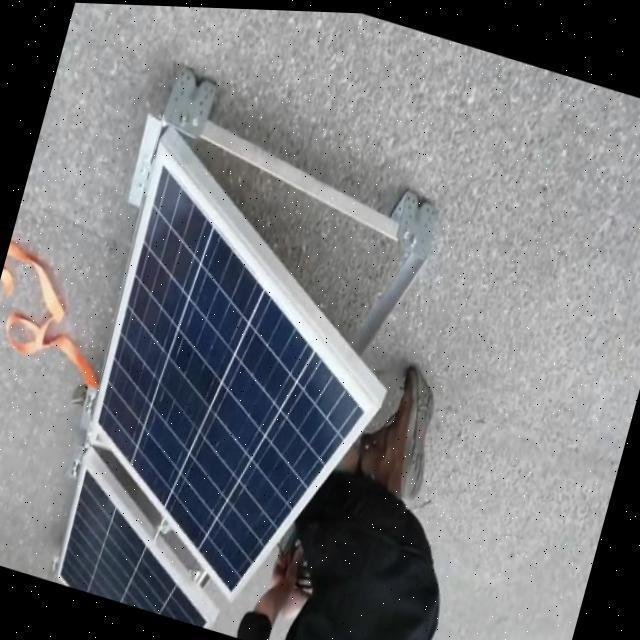Normal Solar Panel: (62, 164, 410, 615), (54, 468, 235, 626)
